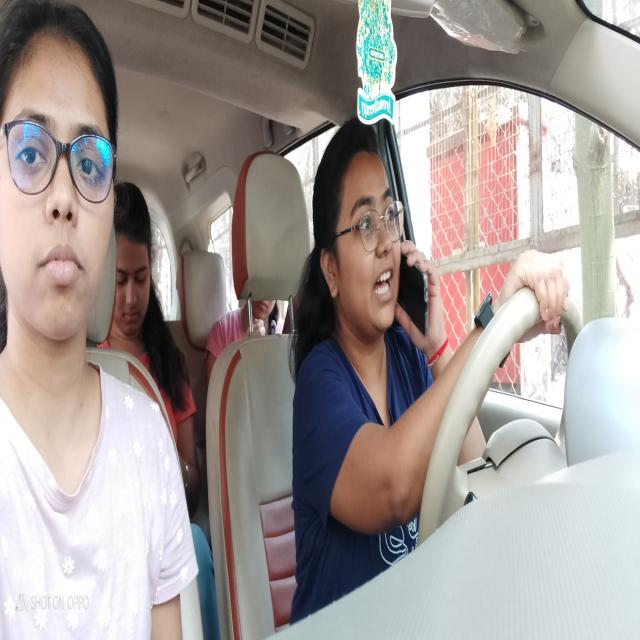mobile: (398, 250, 441, 342)
person: (0, 0, 120, 360), (308, 112, 408, 342), (114, 183, 156, 350)
